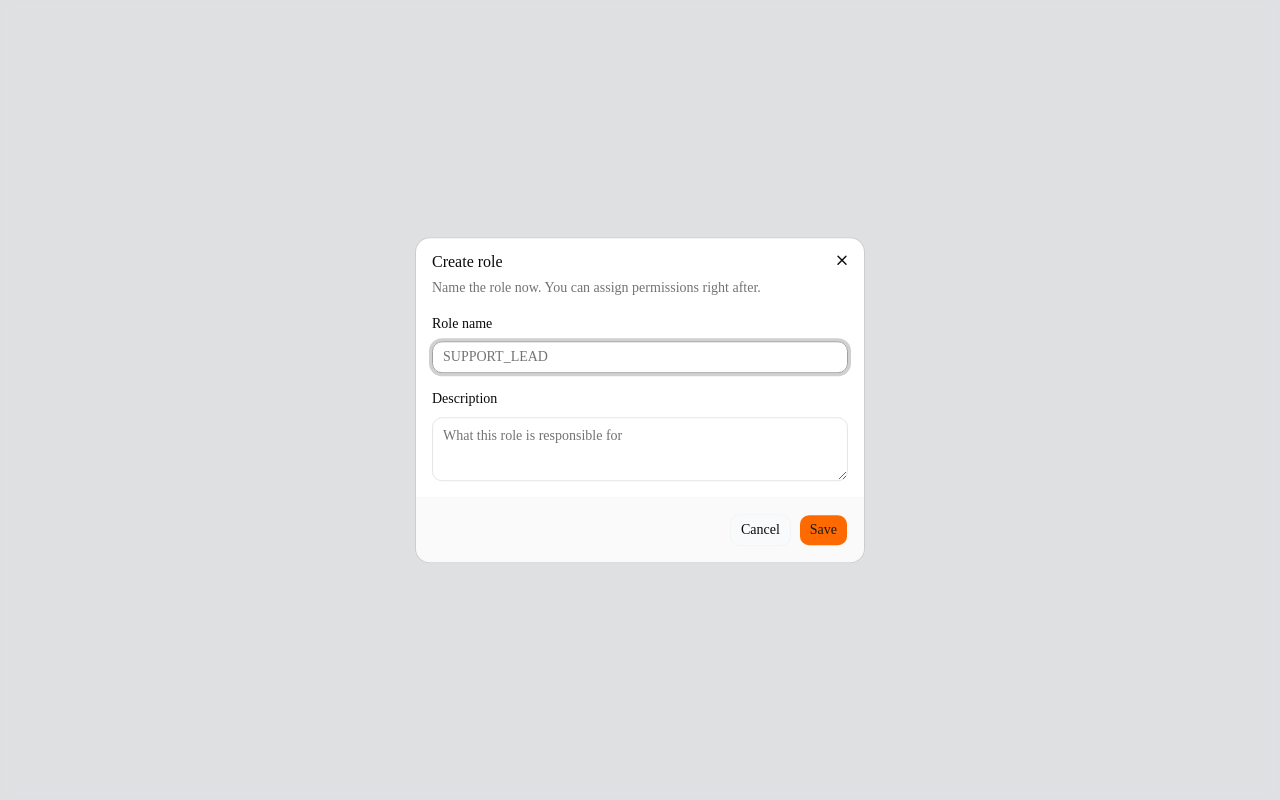
it: CreateRoleDialog › rejects invalid characters with the localized pattern message
The width and height of the screenshot is (1280, 800).
Type "bad-name" into the field labelled "Role name" at (640,358), box [432,342,848,374]
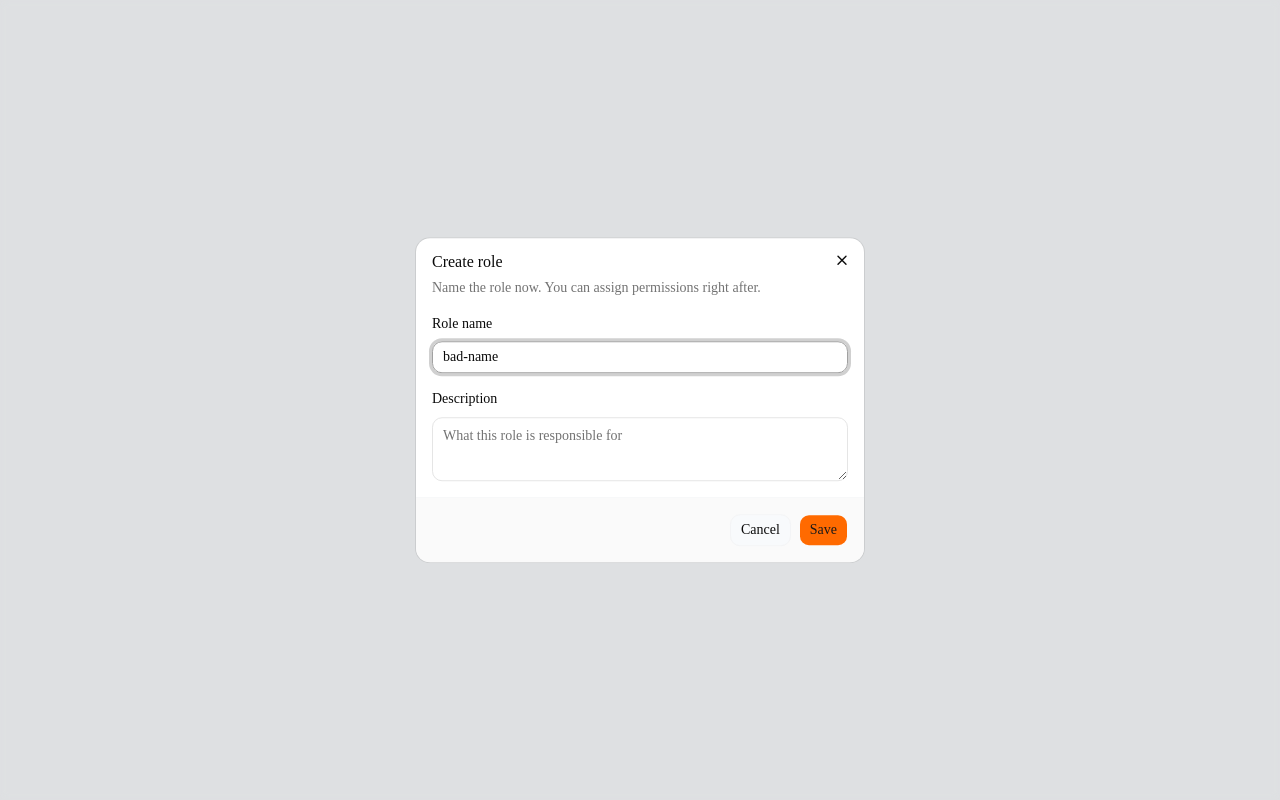
Press Tab
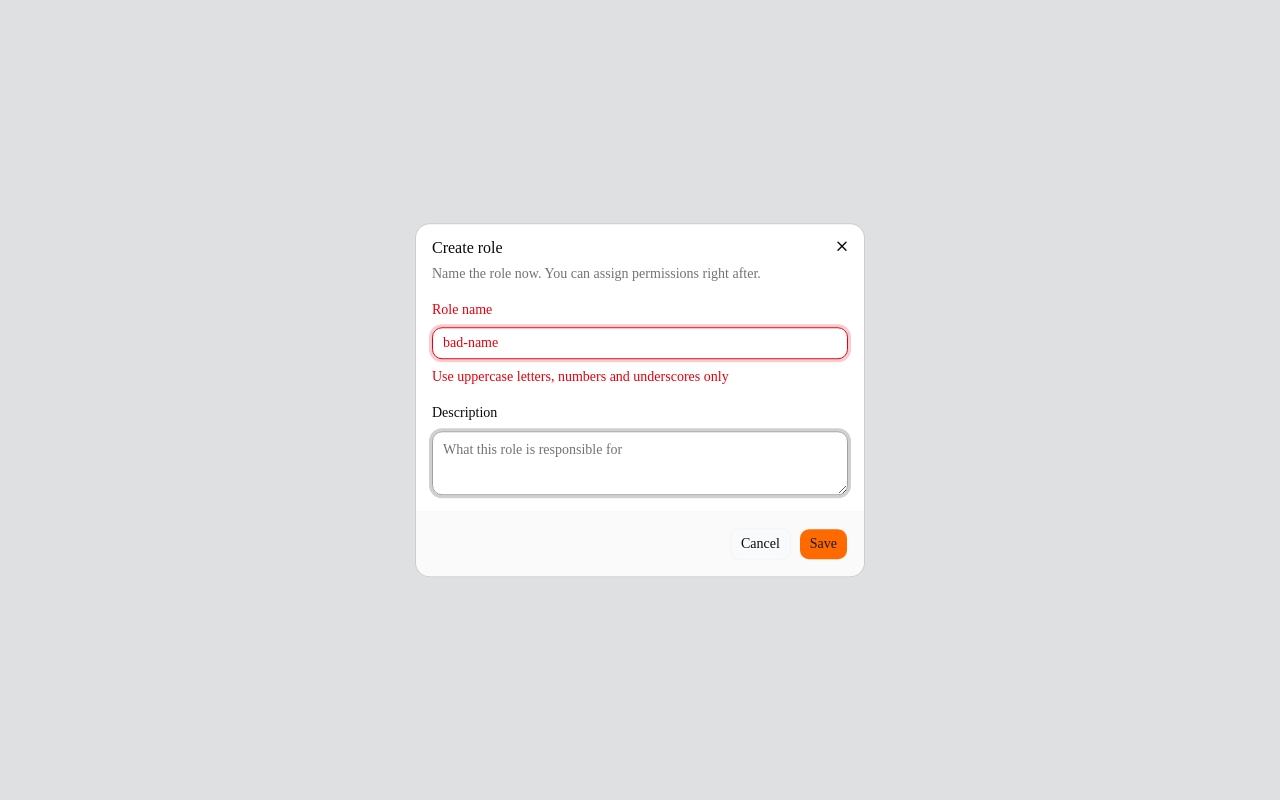
Check: the text "Use uppercase letters, numbers and underscores only" is shown, box [432,370,729,384]
